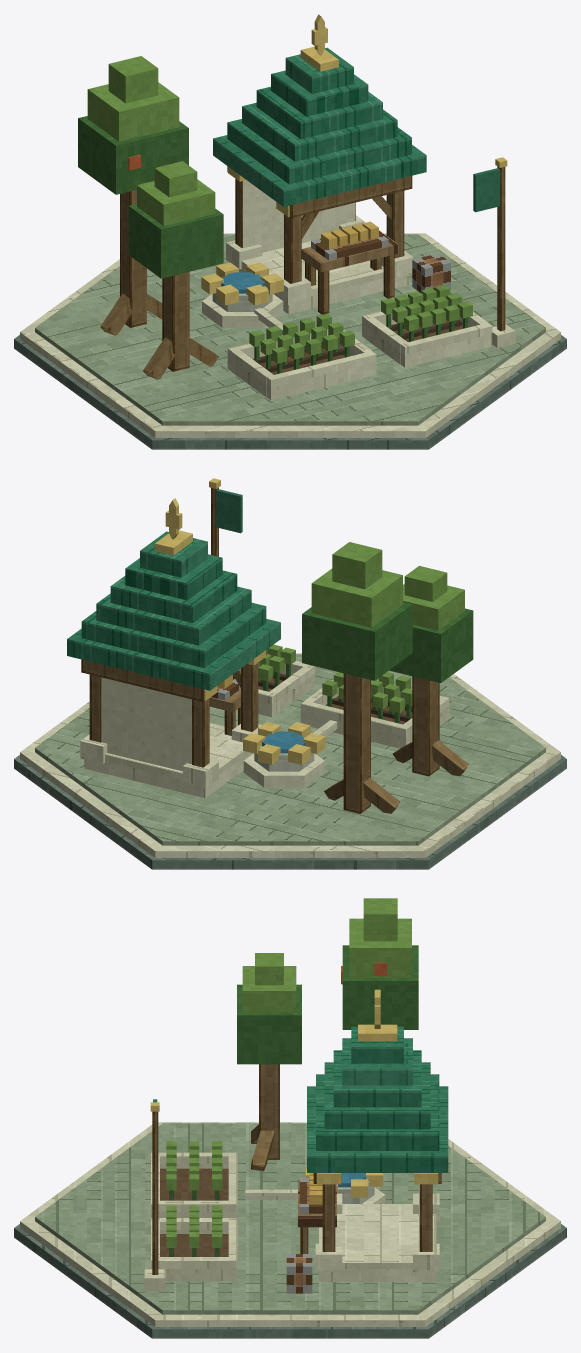
The model's file is elf_farm_hex_v1.glb.
3 renders of one model, top to bottom at view 1: azimuth 30°, elevation 25°; view 2: azimuth 150°, elevation 25°; view 3: azimuth 270°, elevation 25°, orthographic.
Visible parts, largest first — view 1: Elf_Farm_Hex_V1_Foundation, Elf_Farm_Hex_V1_Details, Elf_Farm_Hex_V1_Roofs, Elf_Farm_Hex_V1_Courtyard, Elf_Farm_Hex_V1_Structure, Elf_Farm_Hex_V1_Hall, Elf_Farm_Hex_V1_Focus, Elf_Farm_Hex_V1_Faction; view 2: Elf_Farm_Hex_V1_Foundation, Elf_Farm_Hex_V1_Roofs, Elf_Farm_Hex_V1_Details, Elf_Farm_Hex_V1_Structure, Elf_Farm_Hex_V1_Hall, Elf_Farm_Hex_V1_Courtyard, Elf_Farm_Hex_V1_Focus, Elf_Farm_Hex_V1_Faction; view 3: Elf_Farm_Hex_V1_Foundation, Elf_Farm_Hex_V1_Details, Elf_Farm_Hex_V1_Roofs, Elf_Farm_Hex_V1_Courtyard, Elf_Farm_Hex_V1_Hall, Elf_Farm_Hex_V1_Structure, Elf_Farm_Hex_V1_Focus.
Part boxes in pixels (bbox=[...]): Elf_Farm_Hex_V1_Foundation: bbox=[14, 233, 566, 449]; Elf_Farm_Hex_V1_Details: bbox=[78, 14, 515, 347]; Elf_Farm_Hex_V1_Roofs: bbox=[213, 46, 426, 206]; Elf_Farm_Hex_V1_Courtyard: bbox=[227, 285, 492, 400]; Elf_Farm_Hex_V1_Structure: bbox=[100, 166, 413, 379]; Elf_Farm_Hex_V1_Hall: bbox=[239, 180, 409, 314]; Elf_Farm_Hex_V1_Focus: bbox=[201, 262, 283, 327]; Elf_Farm_Hex_V1_Faction: bbox=[473, 168, 499, 212]; Elf_Farm_Hex_V1_Foundation: bbox=[14, 653, 566, 869]; Elf_Farm_Hex_V1_Roofs: bbox=[67, 530, 280, 690]; Elf_Farm_Hex_V1_Details: bbox=[165, 478, 473, 735]; Elf_Farm_Hex_V1_Structure: bbox=[80, 650, 468, 813]; Elf_Farm_Hex_V1_Hall: bbox=[84, 677, 253, 797]; Elf_Farm_Hex_V1_Courtyard: bbox=[233, 644, 449, 748]; Elf_Farm_Hex_V1_Focus: bbox=[243, 722, 325, 787]; Elf_Farm_Hex_V1_Faction: bbox=[216, 489, 242, 533]; Elf_Farm_Hex_V1_Foundation: bbox=[14, 1122, 566, 1338]; Elf_Farm_Hex_V1_Details: bbox=[144, 898, 418, 1293]; Elf_Farm_Hex_V1_Roofs: bbox=[307, 1024, 448, 1172]; Elf_Farm_Hex_V1_Courtyard: bbox=[151, 1141, 297, 1281]; Elf_Farm_Hex_V1_Hall: bbox=[319, 1184, 436, 1281]; Elf_Farm_Hex_V1_Structure: bbox=[251, 1064, 441, 1271]; Elf_Farm_Hex_V1_Focus: bbox=[306, 1168, 385, 1203].
Size of the model in its own units: 1.59 by 1.04 by 1.84.
Materials: 1 (1 with a texture image).
